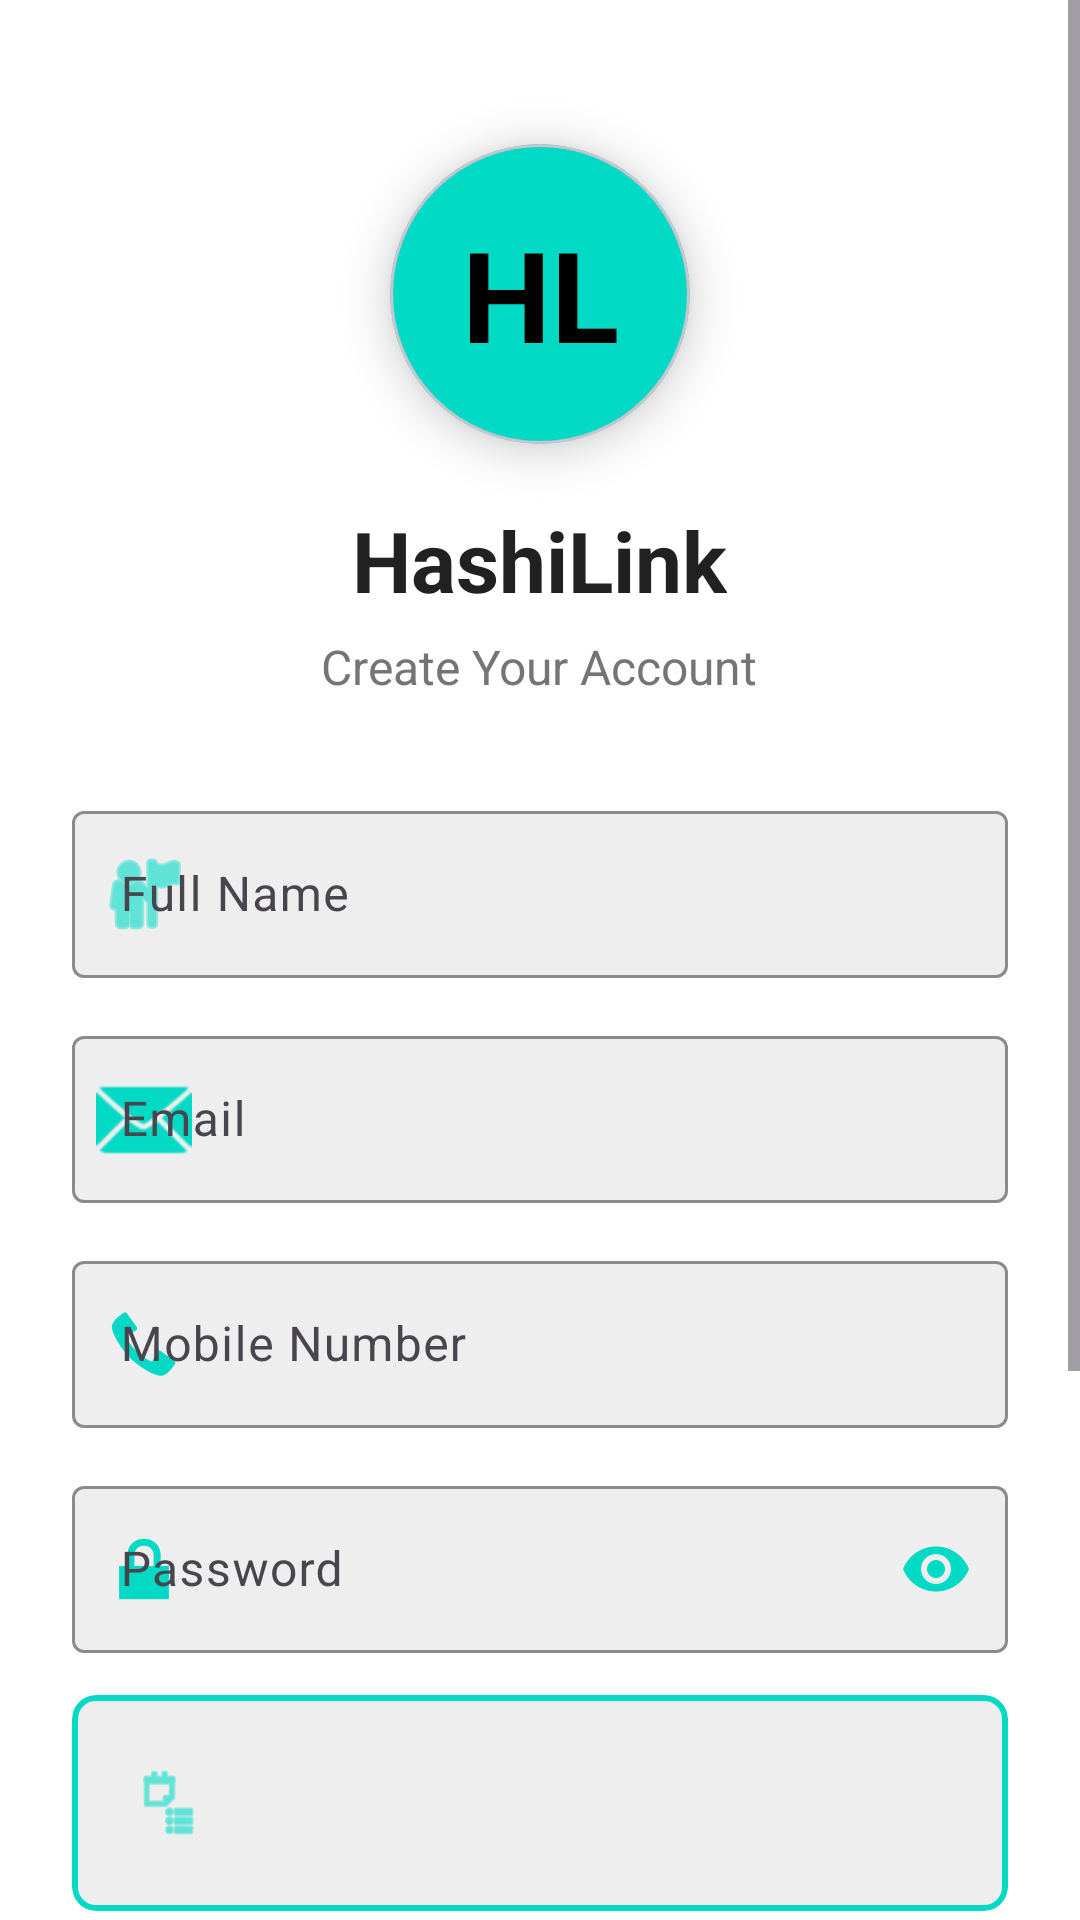

Icon click points for this 1080*1920 phone screenshot, format (x=x, y=y):
agenda: (x=168, y=1803)
